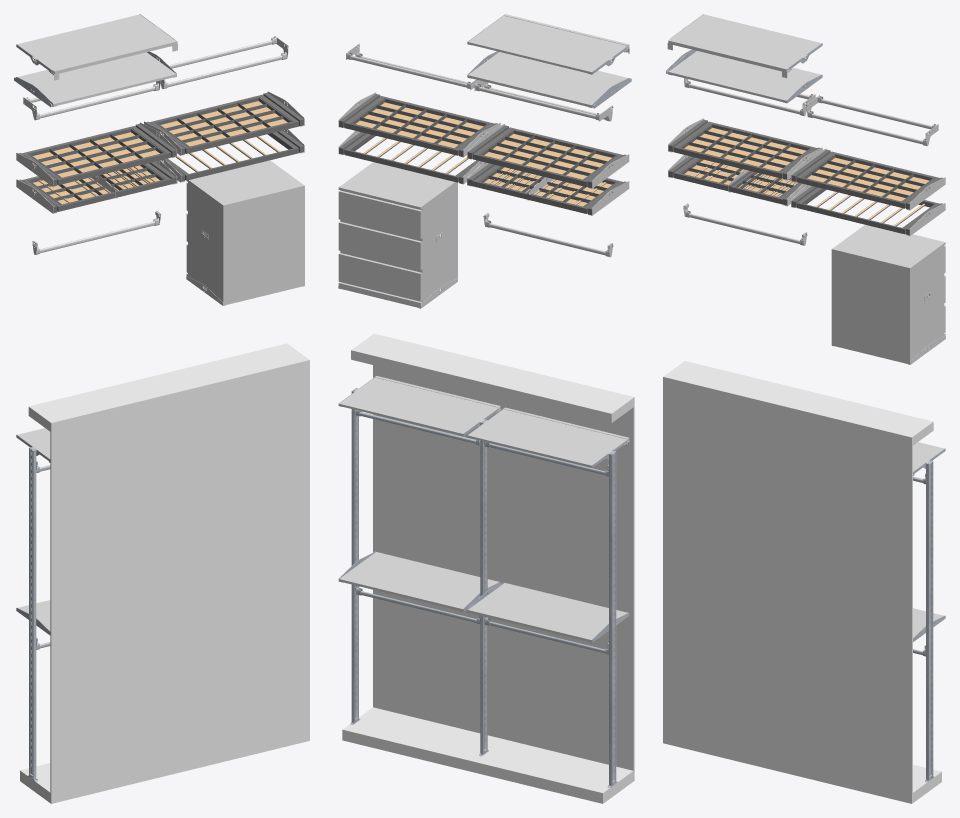
File: JP-whole.glb
3 views of the same model, side by side, from view 1: azimuth 30°, elevation 25°; view 2: azimuth 150°, elevation 25°; view 3: azimuth 330°, elevation 25° (orthographic). The views are drawn at different scales.
Parts seen in each view (by area): view 1: Geom3D_, Geom3D (×8), Geom3D_组件#4_柜子 copy 002, Geom3D_组件#16 (×2), Geom3D_组件#15, Geom3D_组件#2, Geom3D_组件#11 (×2), Geom3D_组件#10, Geom3D_组件#6; view 2: Geom3D_, Geom3D (×8), Geom3D_组件#16 (×3), Geom3D_组件#4_柜子 copy 002, Geom3D_组件#15 (×3), Geom3D_组件#2 (×3), Geom3D_组件#10 (×5), Geom3D_组件#11 (×2), Geom3D_组件#6; view 3: Geom3D_, Geom3D (×8), Geom3D_组件#4_柜子 copy 002, Geom3D_组件#16 (×2), Geom3D_组件#15, Geom3D_组件#2, Geom3D_组件#11 (×2), Geom3D_组件#10, Geom3D_组件#6.
Boxes of the visible parts, box(x1,y1,x2,y2) form: Geom3D_: box(20, 343, 309, 803); Geom3D (×8): box(19, 92, 303, 212); Geom3D_组件#4_柜子 copy 002: box(186, 160, 304, 305); Geom3D_组件#16 (×2): box(17, 14, 177, 462); Geom3D_组件#15: box(18, 52, 176, 106); Geom3D_组件#2: box(27, 447, 37, 781); Geom3D_组件#11 (×2): box(23, 36, 288, 120); Geom3D_组件#10: box(32, 210, 161, 254); Geom3D_组件#6: box(16, 122, 176, 186); Geom3D_: box(342, 333, 634, 803); Geom3D (×8): box(339, 94, 626, 215); Geom3D_组件#16 (×3): box(339, 14, 629, 467); Geom3D_组件#4_柜子 copy 002: box(338, 162, 457, 308); Geom3D_组件#15 (×3): box(339, 52, 627, 642); Geom3D_组件#2 (×3): box(350, 388, 617, 787); Geom3D_组件#10 (×5): box(354, 212, 613, 654); Geom3D_组件#11 (×2): box(346, 43, 613, 121); Geom3D_组件#6: box(467, 124, 629, 188); Geom3D_: box(663, 361, 941, 803); Geom3D (×8): box(668, 119, 942, 235); Geom3D_组件#4_柜子 copy 002: box(831, 224, 945, 364); Geom3D_组件#16 (×2): box(667, 14, 944, 475); Geom3D_组件#15: box(668, 51, 820, 102); Geom3D_组件#2: box(925, 460, 934, 782); Geom3D_组件#11 (×2): box(684, 78, 938, 146); Geom3D_组件#10: box(683, 203, 807, 245); Geom3D_组件#6: box(791, 148, 945, 210).
Bounding box in the file's own units: 2.03 × 5.47 × 0.5216.
Materials: 4 (1 with a texture image).
